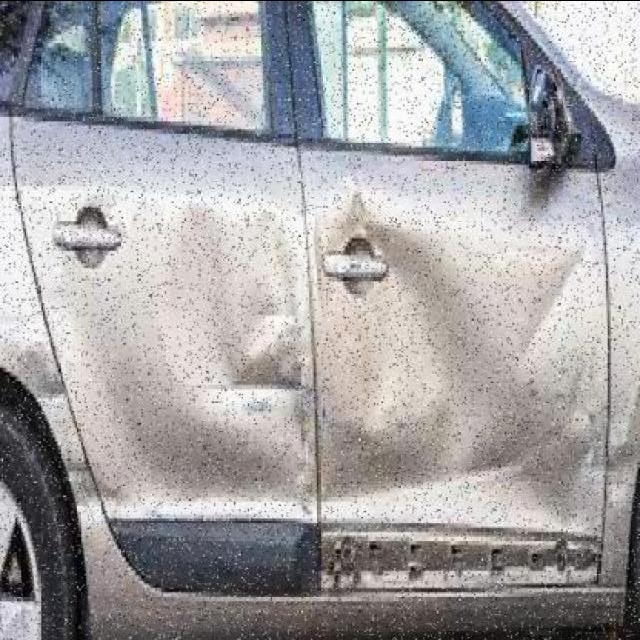doorouter-dent: (317, 143, 606, 537), (43, 138, 317, 532)
